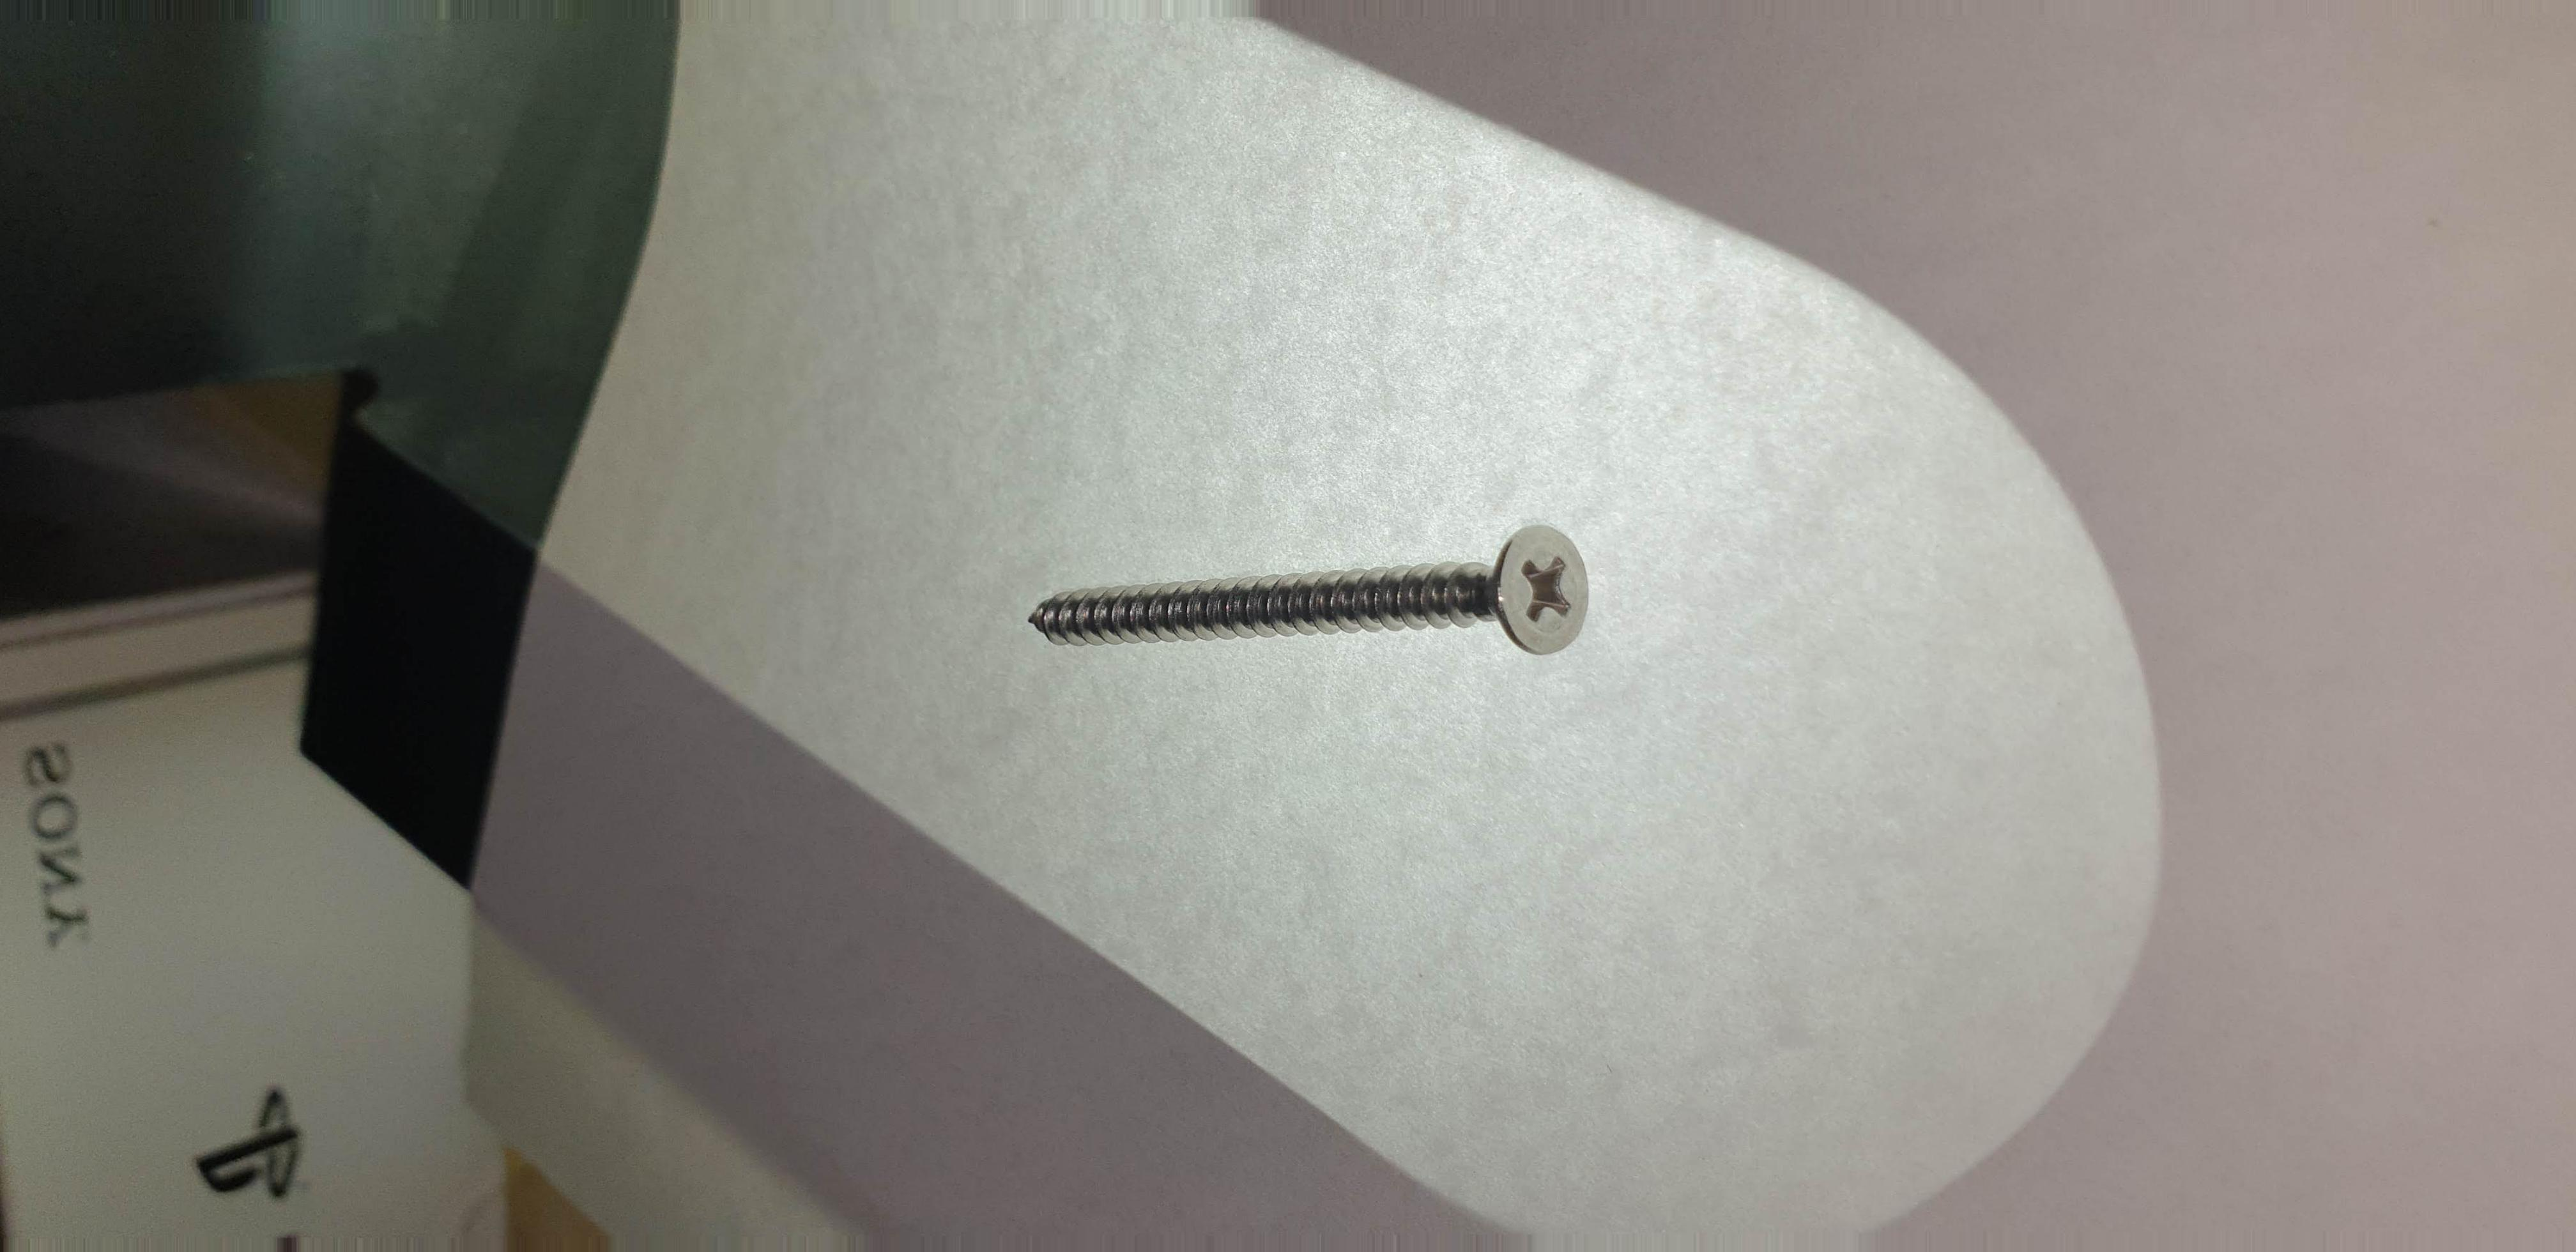fastener: (941, 498, 1687, 746)
